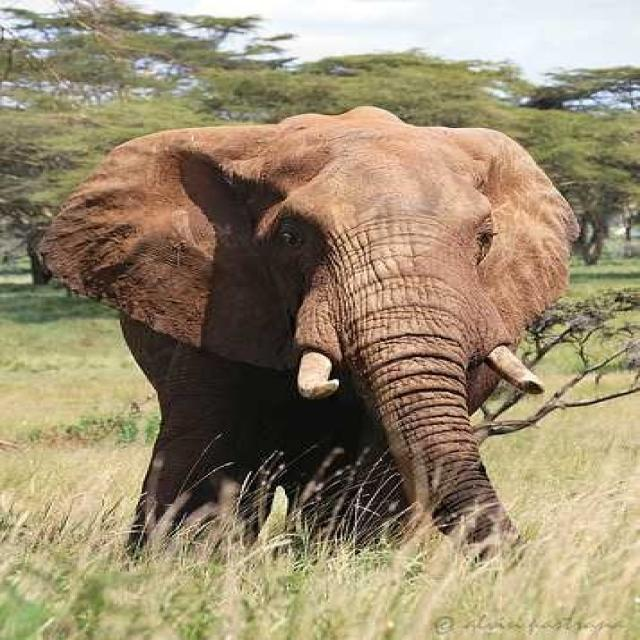Elephant: (36, 104, 581, 572)
